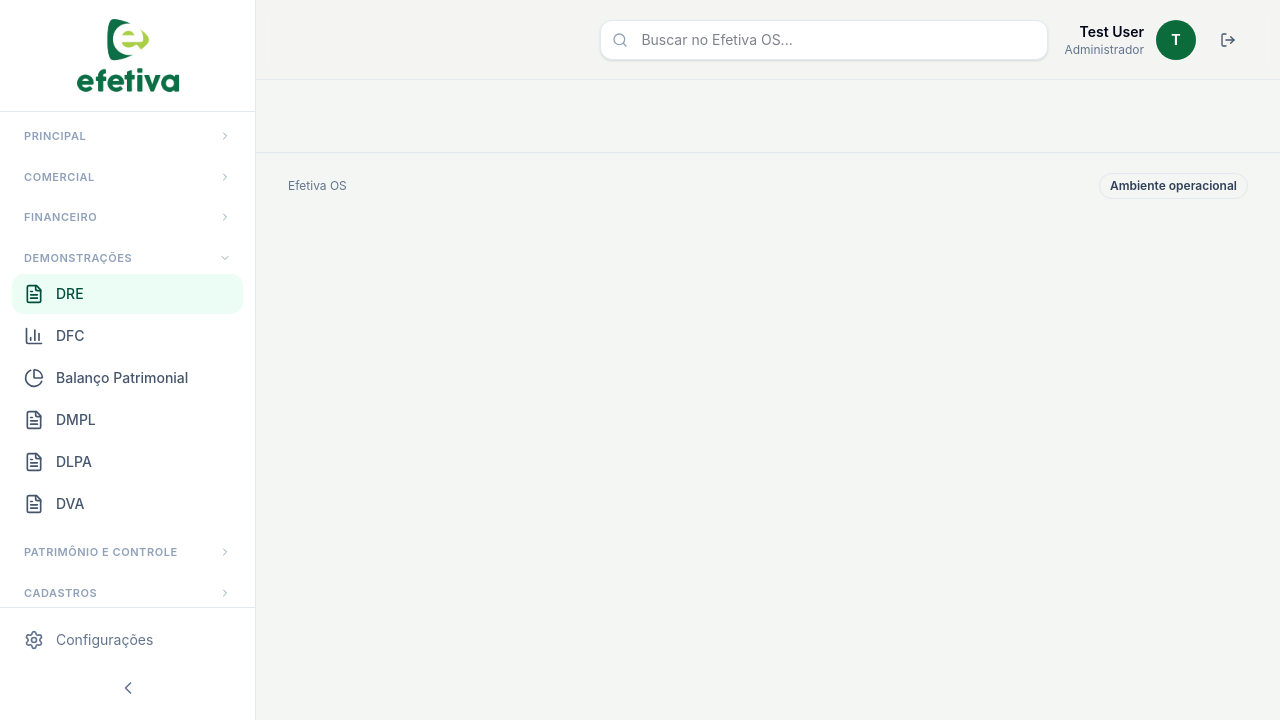
Test case: AppShell sidebar › manual close of active group removes other items but keeps active item
Expected: the text "DRE" is shown, [56, 284, 84, 304]
Click the button "Demonstrações" at (128, 258), box [12, 246, 243, 270]
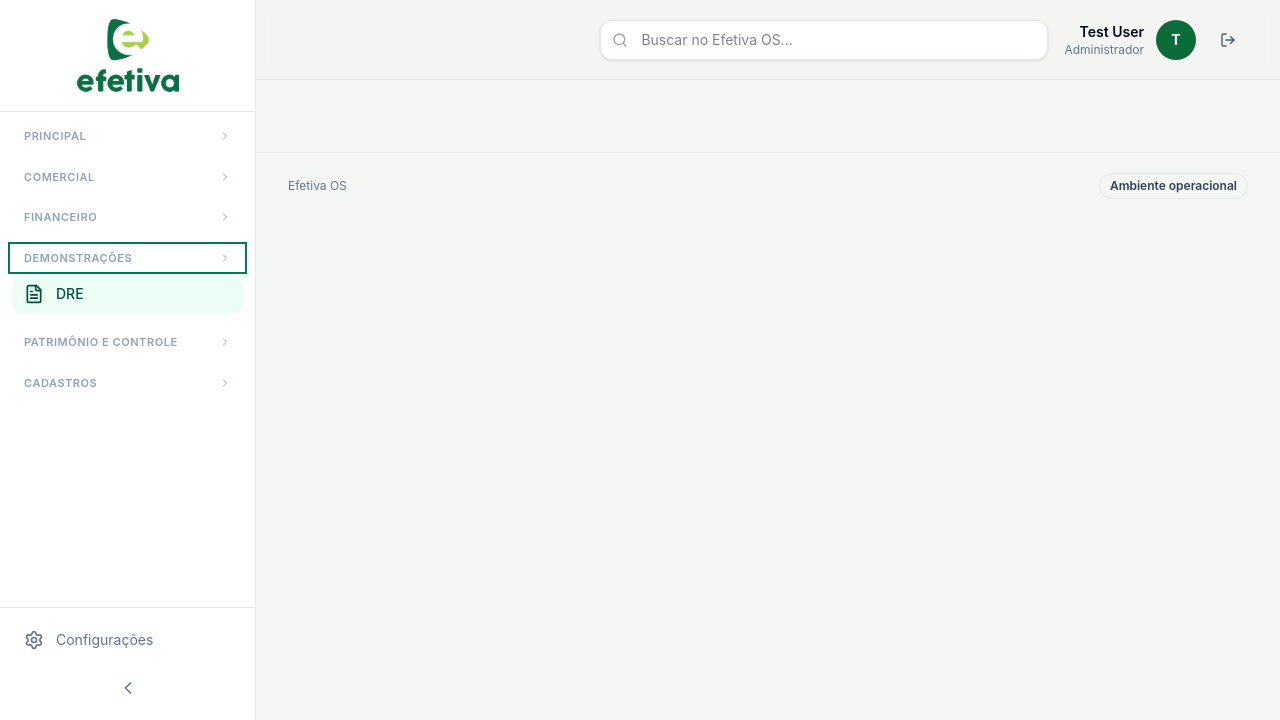
Expected: the text "DRE" is shown, [56, 284, 84, 304]
Result: the link "DFC" is gone
